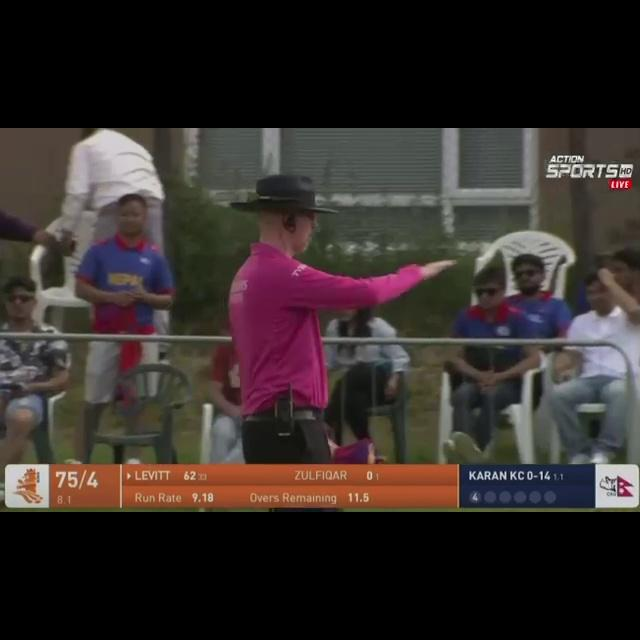umpire: (193, 170, 481, 452)
